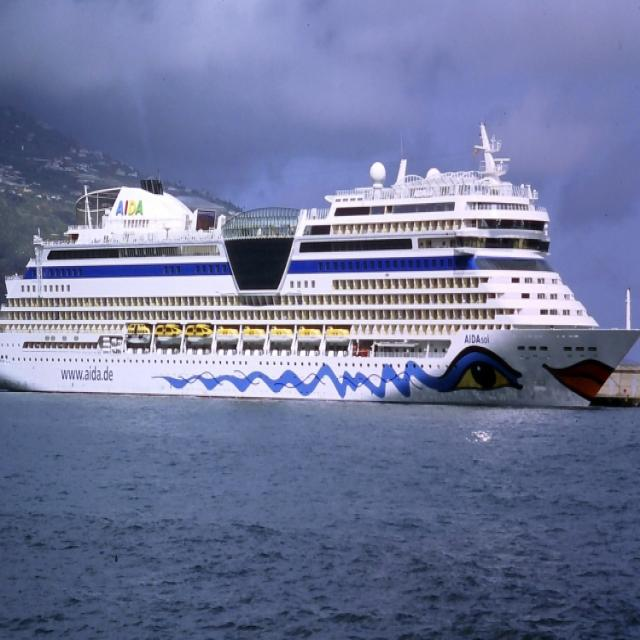cruises: (1, 150, 640, 420)
